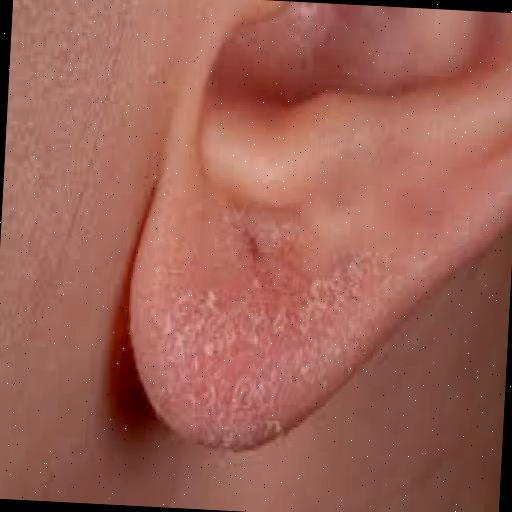Skin_Lesion: (121, 358, 170, 446), (191, 278, 230, 320), (292, 337, 322, 383), (194, 332, 230, 363), (304, 278, 330, 318), (238, 228, 264, 268), (236, 378, 268, 410), (192, 374, 214, 420), (247, 305, 276, 339), (174, 285, 186, 333), (261, 420, 286, 440), (347, 252, 367, 276), (330, 342, 344, 369)
